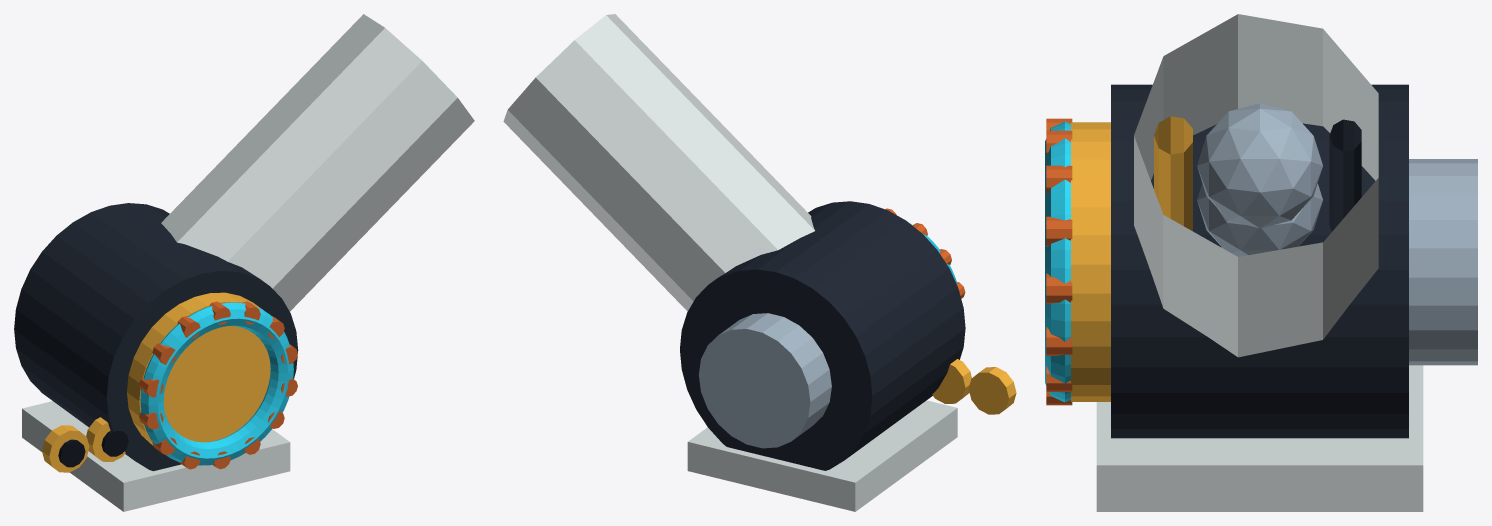
File: 09_L86_RobotJoint2Shoulder.fbx
3 views of the same model, side by side, from view 1: azimuth 30°, elevation 25°; view 2: azimuth 150°, elevation 25°; view 3: azimuth 270°, elevation 25° (orthographic). The views are drawn at different scales.
Parts seen in each view (by area): view 1: L86_RobotJoint2Shoulder_Part_0005, L86_RobotJoint2Shoulder_Part_0000, L86_RobotJoint2Shoulder_Part_0001, L86_RobotJoint2Shoulder_Part_0002, L86_RobotJoint2Shoulder_Part_0004, L86_RobotJoint2Shoulder_Part_0006, L86_RobotJoint2Shoulder_Part_0008, L86_RobotJoint2Shoulder_Part_0007, L86_RobotJoint2Shoulder_Part_0009; view 2: L86_RobotJoint2Shoulder_Part_0005, L86_RobotJoint2Shoulder_Part_0000, L86_RobotJoint2Shoulder_Part_0003, L86_RobotJoint2Shoulder_Part_0006, L86_RobotJoint2Shoulder_Part_0008; view 3: L86_RobotJoint2Shoulder_Part_0005, L86_RobotJoint2Shoulder_Part_0000, L86_RobotJoint2Shoulder_Part_0003, L86_RobotJoint2Shoulder_Part_0001, L86_RobotJoint2Shoulder_Part_0002, L86_RobotJoint2Shoulder_Part_0004.
Boxes of the visible parts, left/top/right/bottom form: L86_RobotJoint2Shoulder_Part_0005: left=22, top=14, right=474, bottom=511; L86_RobotJoint2Shoulder_Part_0000: left=14, top=203, right=298, bottom=471; L86_RobotJoint2Shoulder_Part_0001: left=127, top=292, right=270, bottom=445; L86_RobotJoint2Shoulder_Part_0002: left=140, top=302, right=293, bottom=465; L86_RobotJoint2Shoulder_Part_0004: left=139, top=301, right=297, bottom=469; L86_RobotJoint2Shoulder_Part_0006: left=42, top=425, right=89, bottom=472; L86_RobotJoint2Shoulder_Part_0008: left=86, top=417, right=125, bottom=461; L86_RobotJoint2Shoulder_Part_0007: left=58, top=439, right=85, bottom=467; L86_RobotJoint2Shoulder_Part_0009: left=101, top=430, right=128, bottom=456; L86_RobotJoint2Shoulder_Part_0005: left=503, top=14, right=957, bottom=511; L86_RobotJoint2Shoulder_Part_0000: left=680, top=201, right=965, bottom=470; L86_RobotJoint2Shoulder_Part_0003: left=698, top=313, right=831, bottom=448; L86_RobotJoint2Shoulder_Part_0006: left=968, top=367, right=1016, bottom=414; L86_RobotJoint2Shoulder_Part_0008: left=932, top=359, right=971, bottom=403; L86_RobotJoint2Shoulder_Part_0005: left=1096, top=14, right=1423, bottom=511; L86_RobotJoint2Shoulder_Part_0000: left=1111, top=84, right=1408, bottom=438; L86_RobotJoint2Shoulder_Part_0003: left=1197, top=103, right=1477, bottom=365; L86_RobotJoint2Shoulder_Part_0001: left=1071, top=116, right=1192, bottom=401; L86_RobotJoint2Shoulder_Part_0002: left=1045, top=121, right=1070, bottom=402; L86_RobotJoint2Shoulder_Part_0004: left=1046, top=118, right=1072, bottom=405.
Bounding box in the file's own units: 147 × 117 × 75.5.
